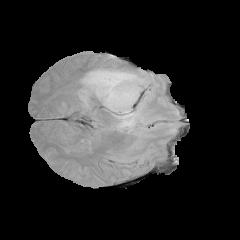glioma: (78, 69, 152, 128)
